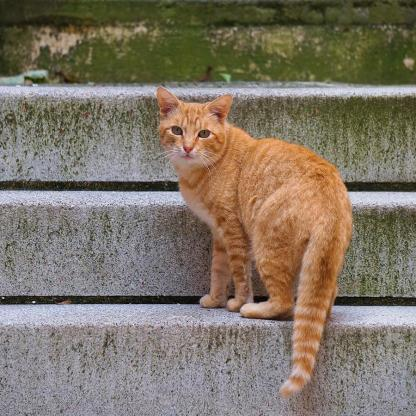cat: (151, 92, 344, 400)
